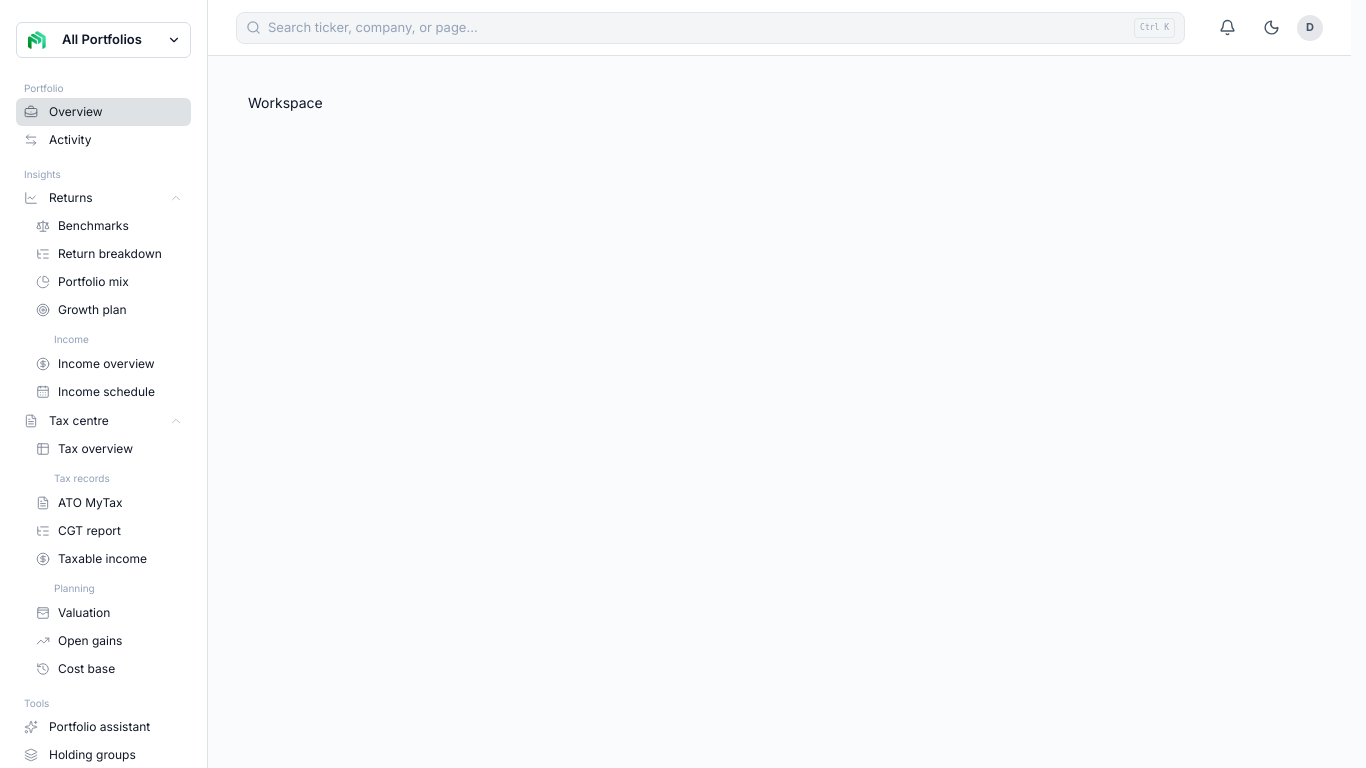
Navexa-depth workspace routes › opens the portfolio selector and keyboard command palette
The width and height of the screenshot is (1366, 768).
Step 1. Click the button "All Portfolios" → click(104, 40), box x1=16 y1=22 x2=191 y2=58
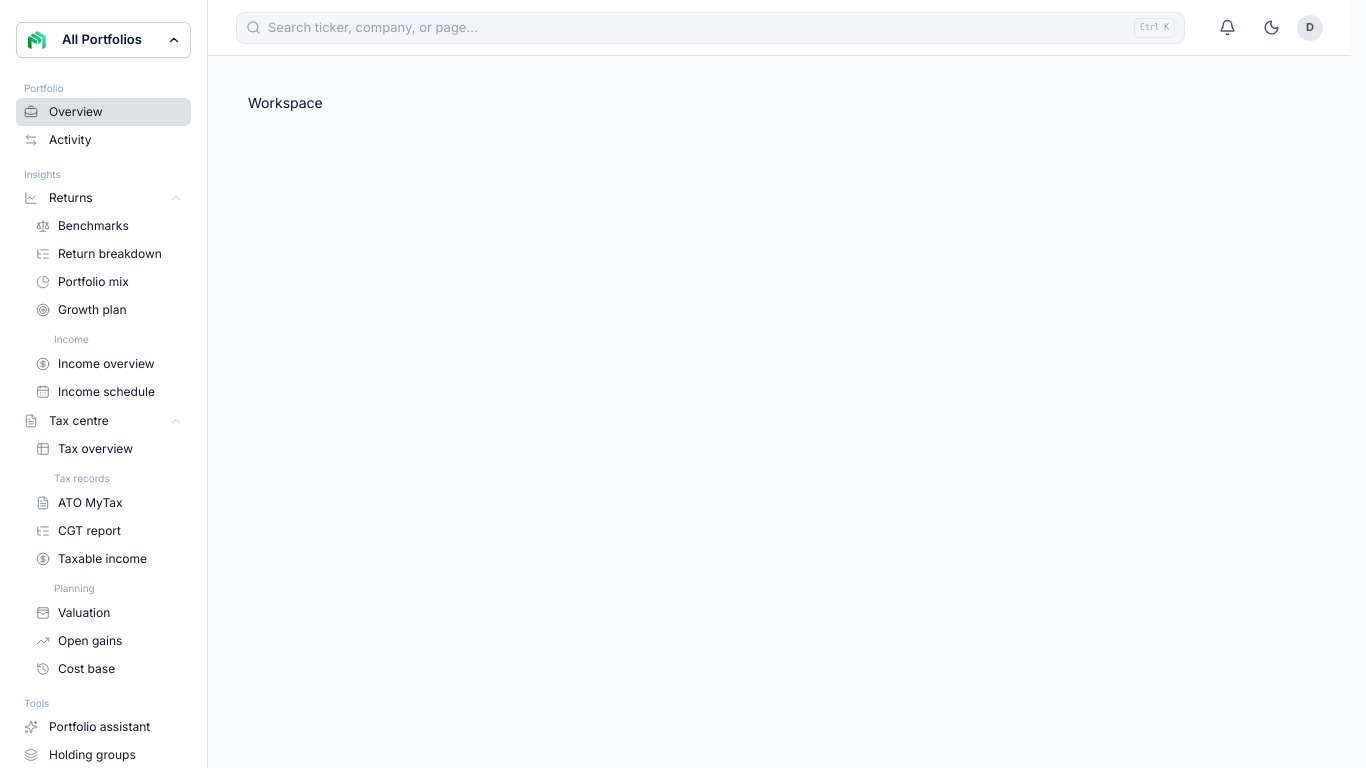
Step 2. Press k
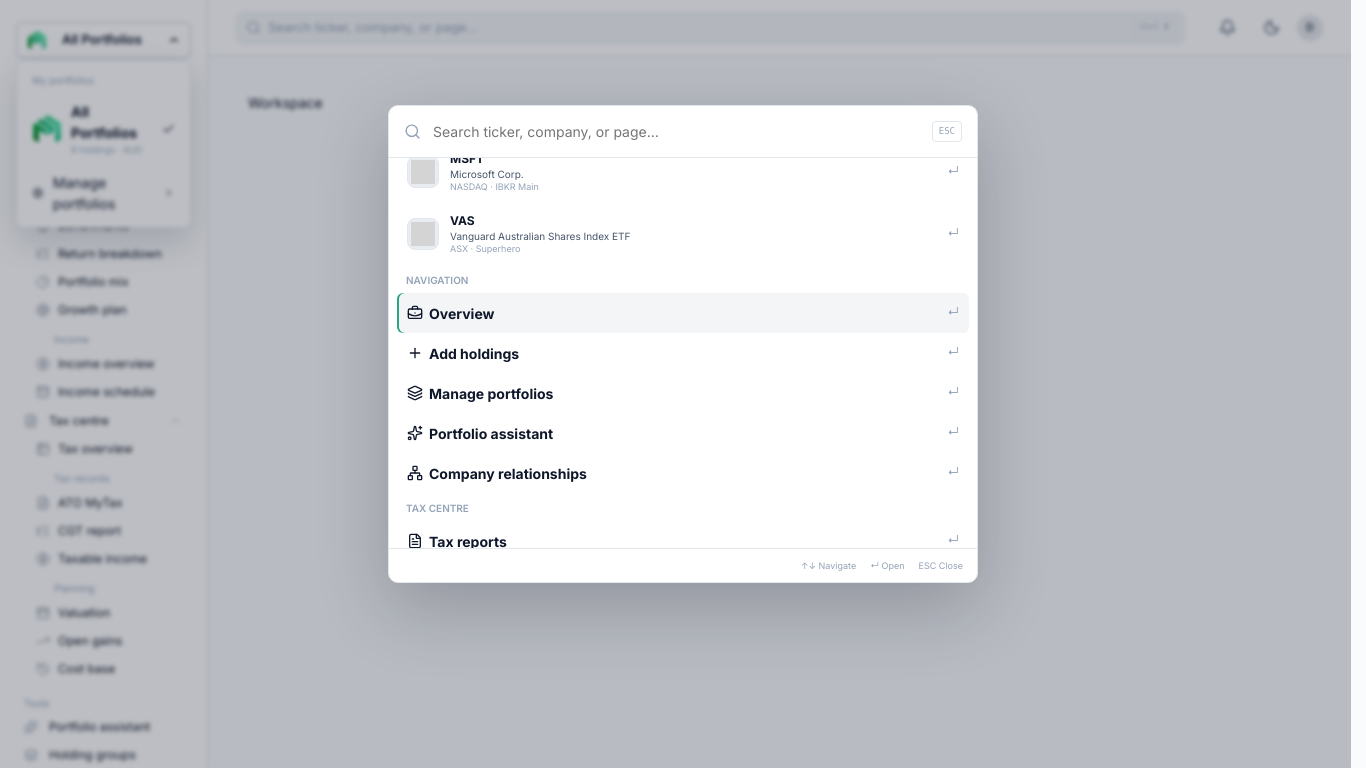
Result: the dialog named "Search your deck" is shown at x1=388 y1=105 x2=978 y2=583
Result: the button "Add holdings ↵" is shown at x1=397 y1=333 x2=969 y2=373
